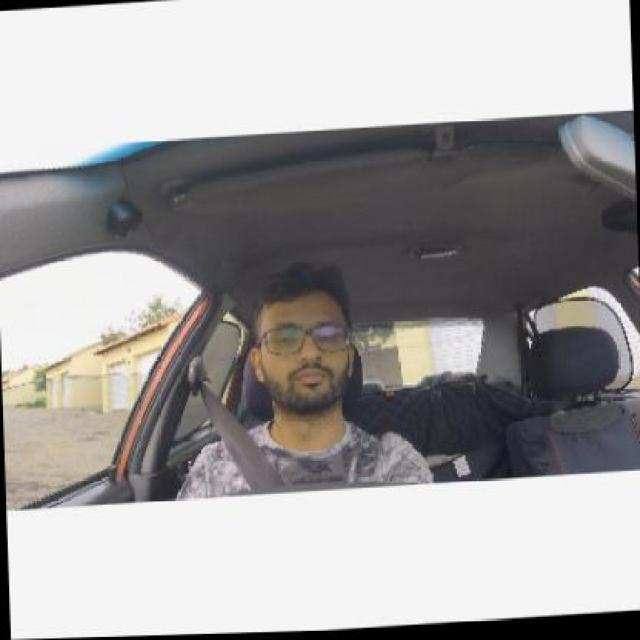drowsy: (248, 284, 363, 404)
